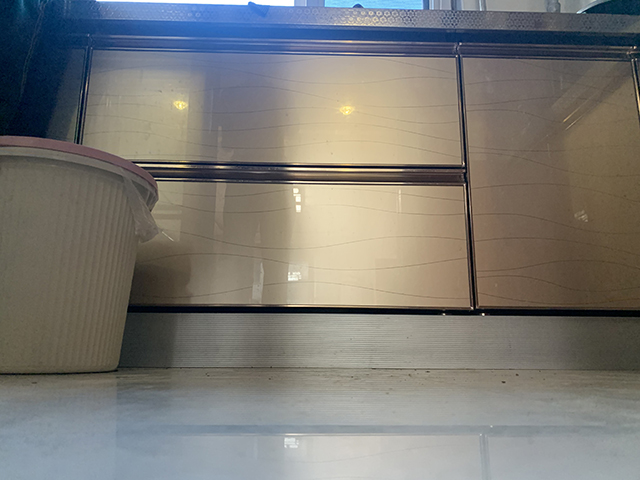cabinet: (58, 1, 640, 371)
trashcan: (1, 134, 159, 375)
